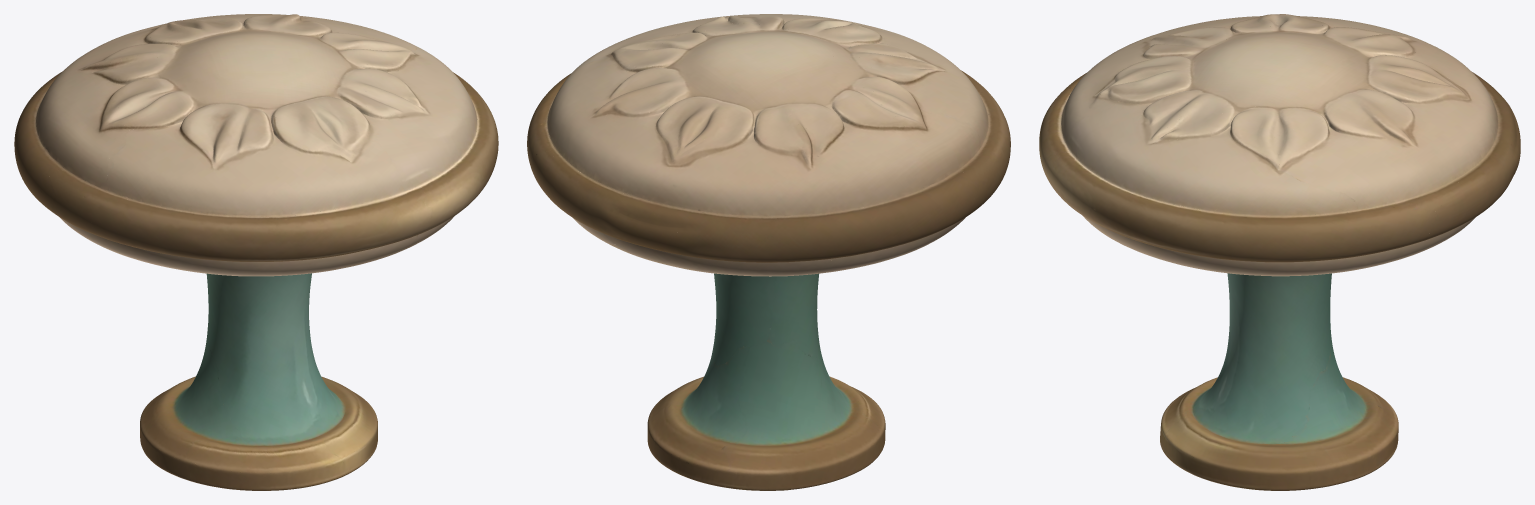
The model's file is act1_lotus_pad_rodin.glb.
The picture shows the model from 3 angles, left to right: view 1: azimuth 30°, elevation 25°; view 2: azimuth 150°, elevation 25°; view 3: azimuth 270°, elevation 25°; orthographic projection.
Parts seen in each view (by area): view 1: model; view 2: model; view 3: model.
Boxes of the visible parts, <box> form: model: <box>14,14,498,490</box>; model: <box>527,14,1010,490</box>; model: <box>1039,14,1520,490</box>.
Size of the model in its own units: 1.14 by 1 by 1.14.
Materials: 1 (1 with a texture image).
